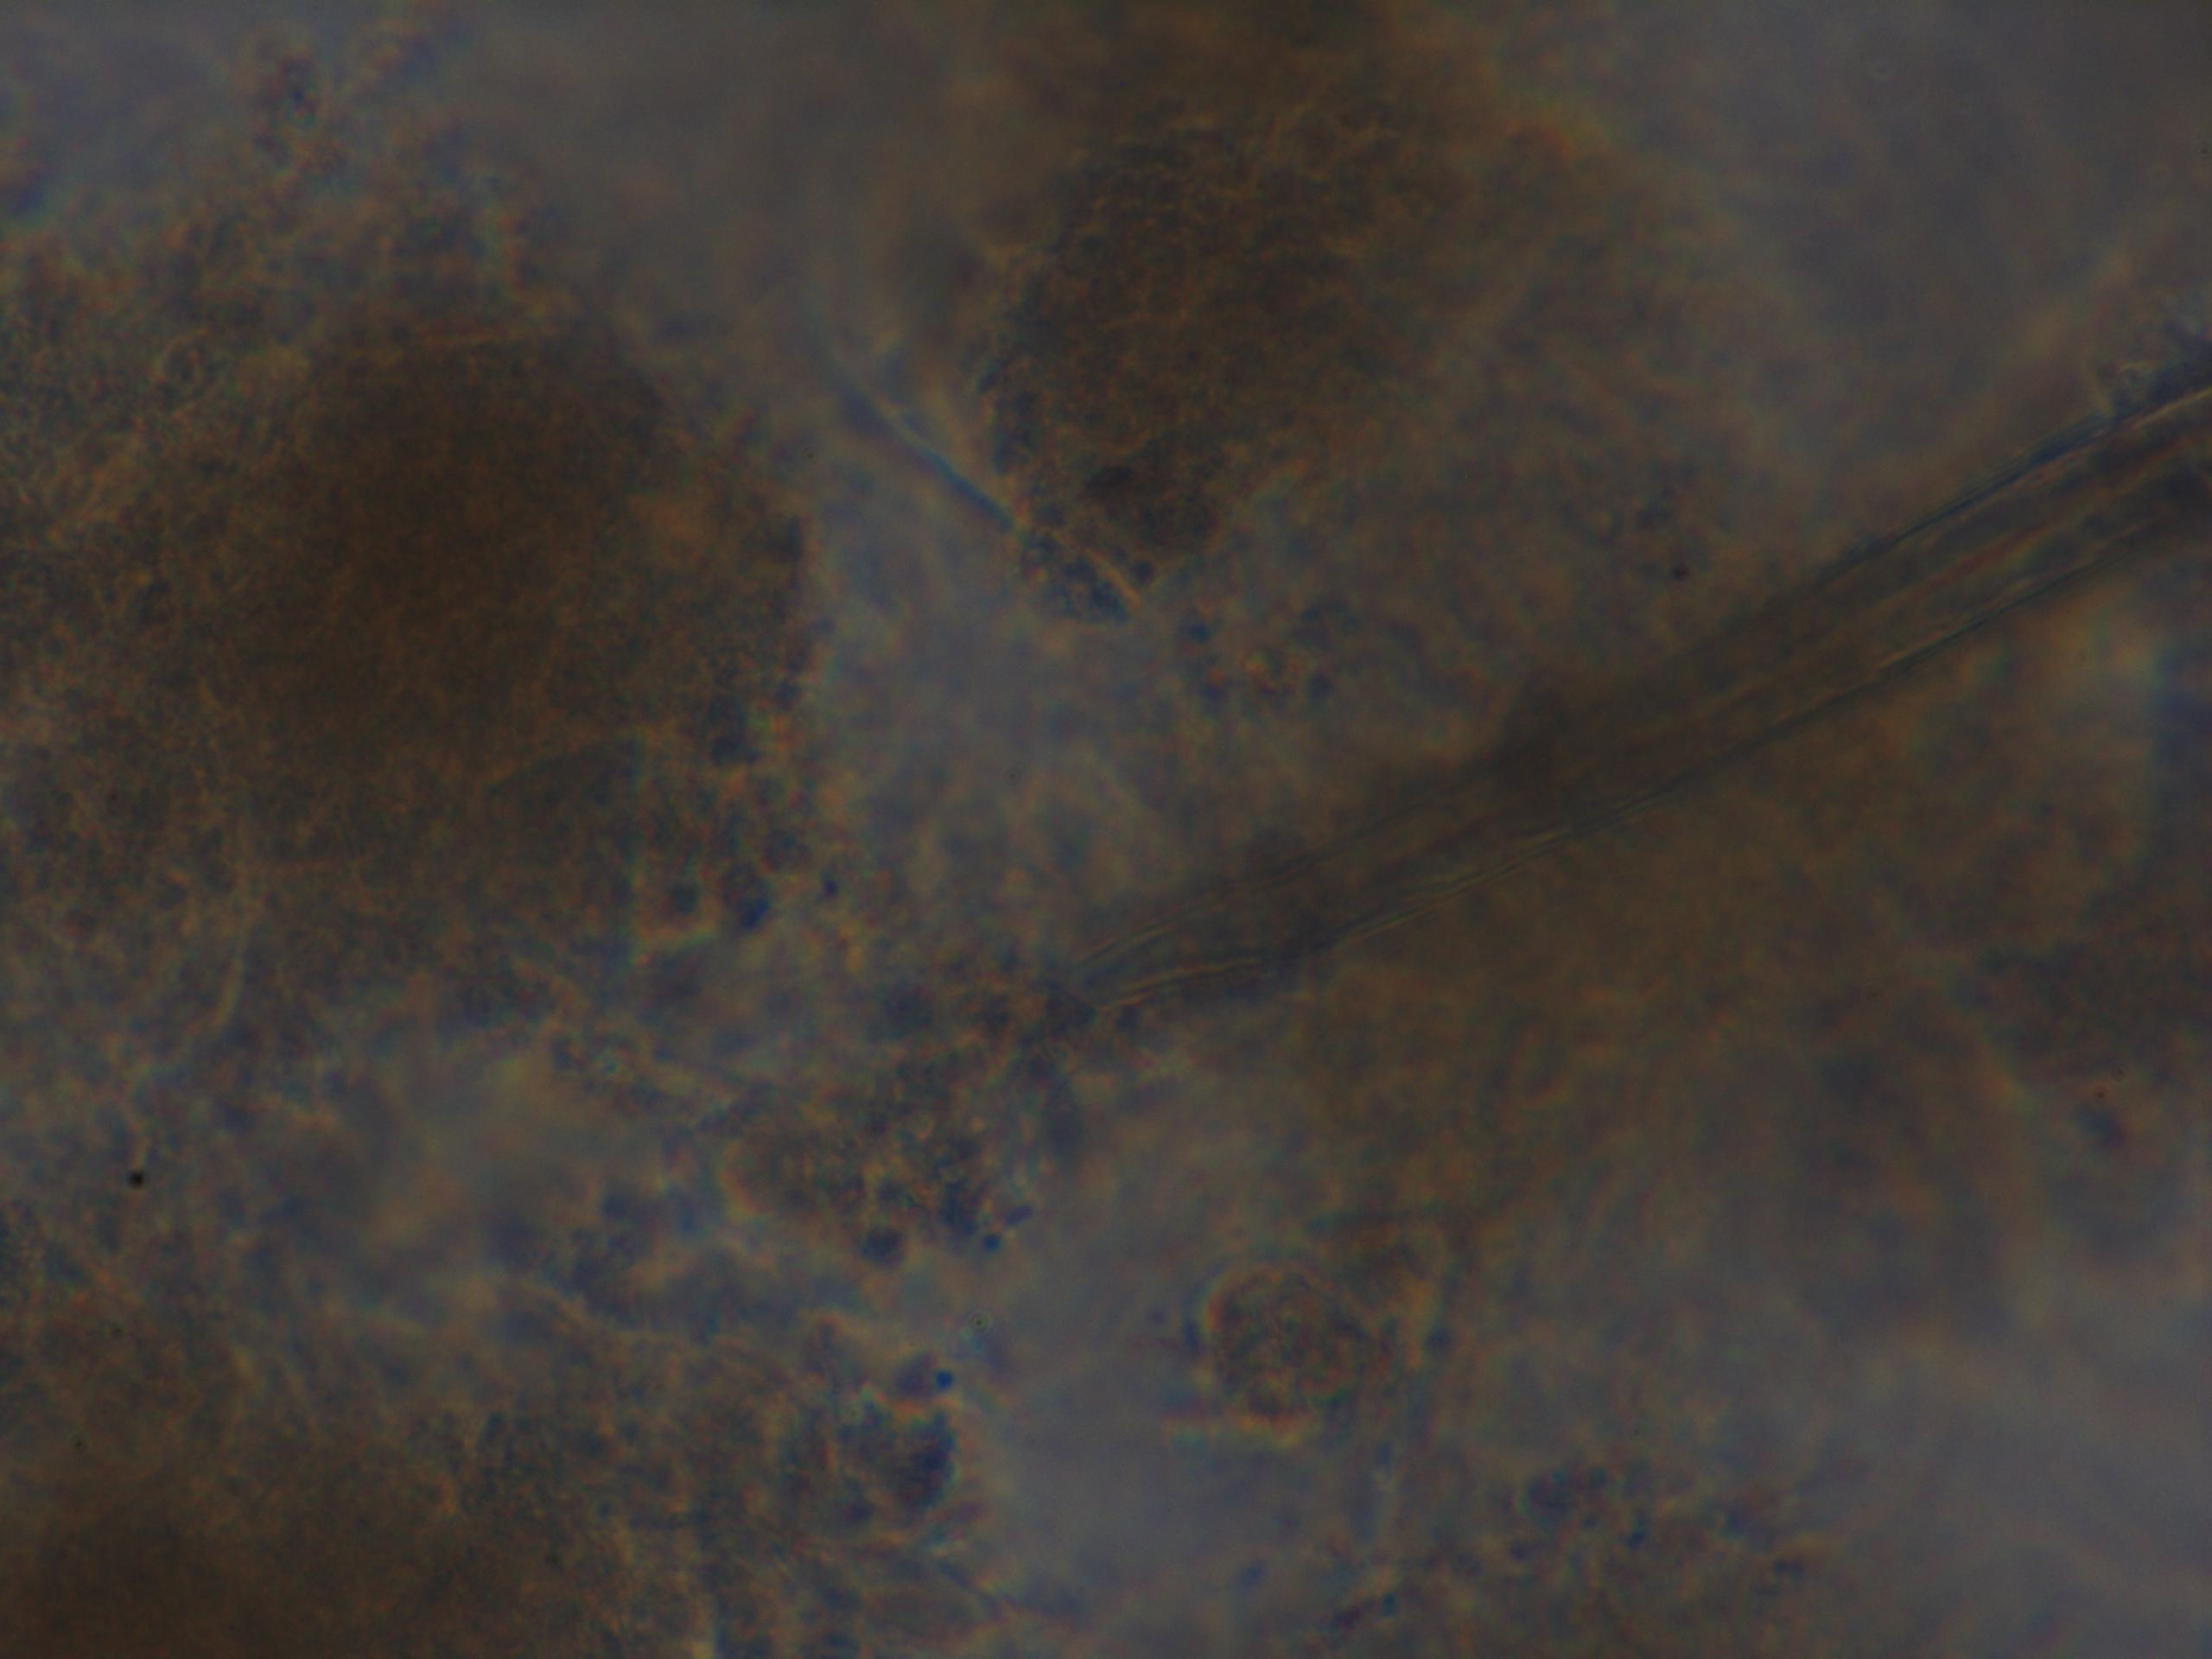spherical_floc: (0, 234, 845, 1070)
